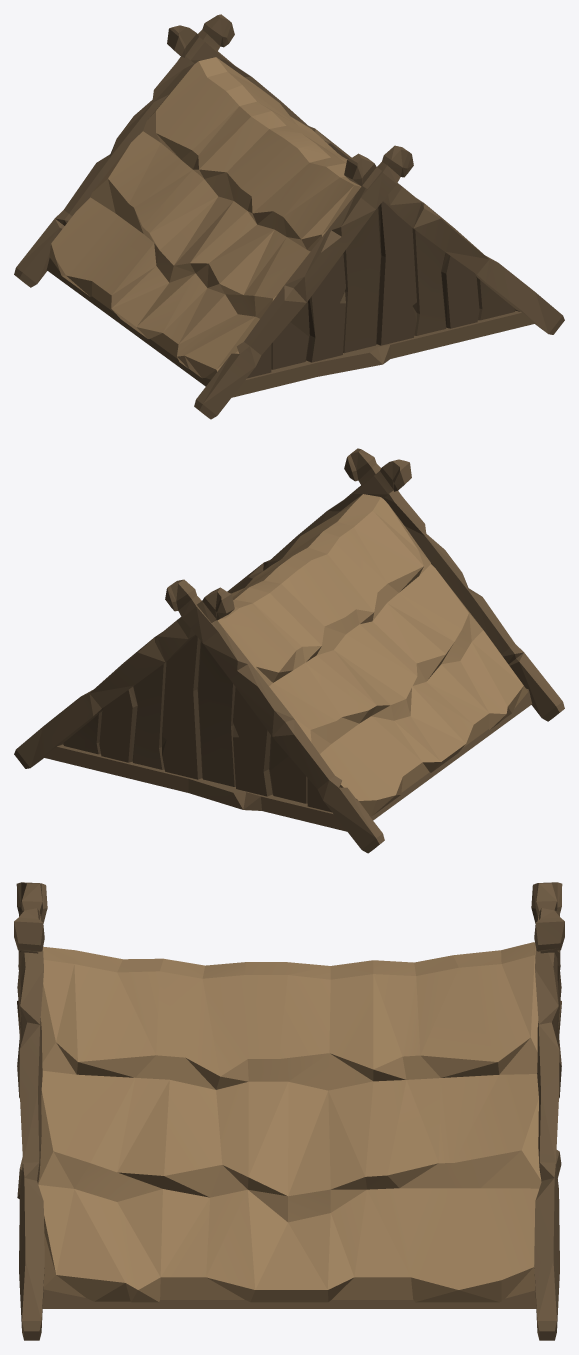
Rendered from Techo_01.glb.
3 renders of one model, top to bottom at view 1: azimuth 30°, elevation 25°; view 2: azimuth 150°, elevation 25°; view 3: azimuth 270°, elevation 25°, orthographic. The views are drawn at different scales.
Visible parts, largest first — view 1: SM_Bld_Roof_01; view 2: SM_Bld_Roof_01; view 3: SM_Bld_Roof_01.
Boxes of the visible parts, left/top/right/bottom form: SM_Bld_Roof_01: left=14, top=14, right=564, bottom=419; SM_Bld_Roof_01: left=14, top=448, right=564, bottom=853; SM_Bld_Roof_01: left=14, top=882, right=564, bottom=1340.
Size of the model in its own units: 5.28 by 3.08 by 4.75.
1 material, 1 textured.
